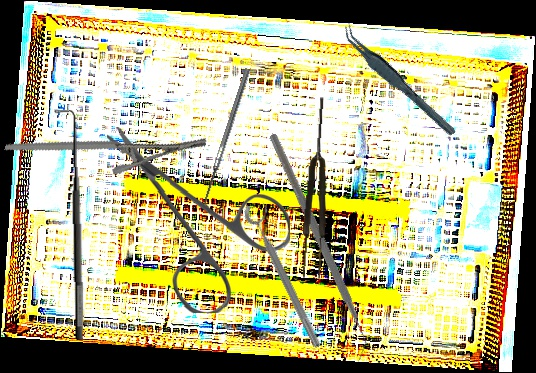Chopper: (193, 132, 438, 363)
Fixation Ring: (240, 197, 334, 351)
Hook Surgical: (53, 108, 87, 341)
Iris Scissors: (104, 126, 292, 315)
Needle Holder: (4, 79, 208, 209)
Spatula Surgical: (199, 67, 256, 214)
Tissue Forceps: (339, 14, 457, 148), (299, 96, 335, 280)
